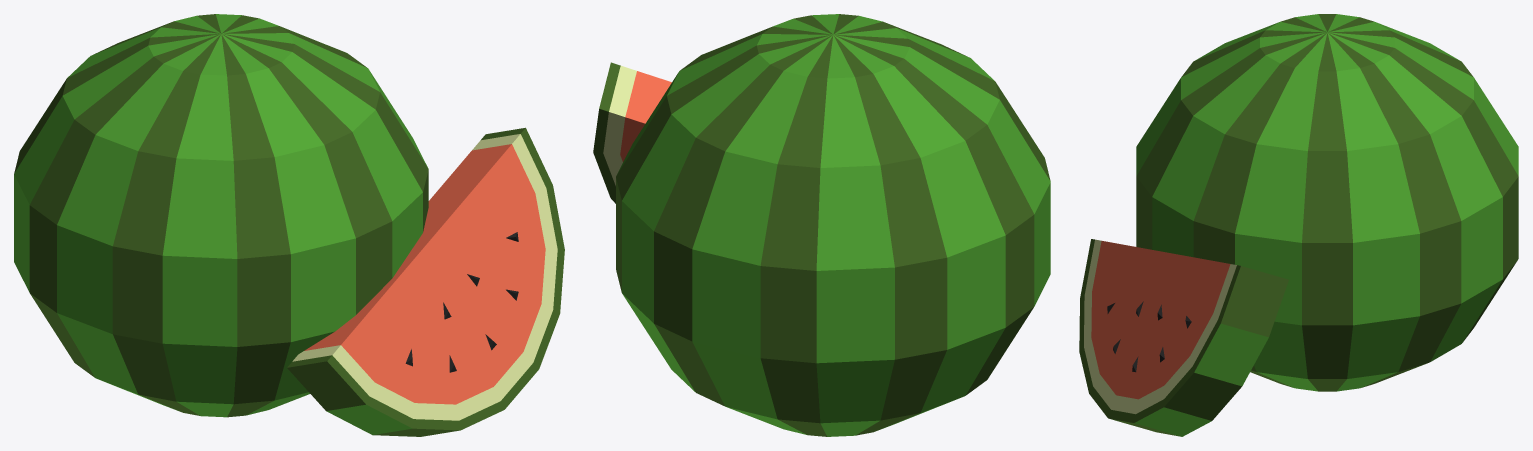
File: FMS_Fruit_Watermelon.fbx
3 views of the same model, side by side, from view 1: azimuth 30°, elevation 25°; view 2: azimuth 150°, elevation 25°; view 3: azimuth 270°, elevation 25° (orthographic). The views are drawn at different scales.
Visible parts, largest first — view 1: item_produce_watermelon; view 2: item_produce_watermelon; view 3: item_produce_watermelon.
Part boxes in pixels (x1,y1,x2,y2): item_produce_watermelon: [14, 14, 564, 436]; item_produce_watermelon: [593, 14, 1050, 436]; item_produce_watermelon: [1079, 14, 1518, 436].
Bounding box in the file's own units: 0.3179 × 0.2366 × 0.2851.
1 material, 1 textured.
